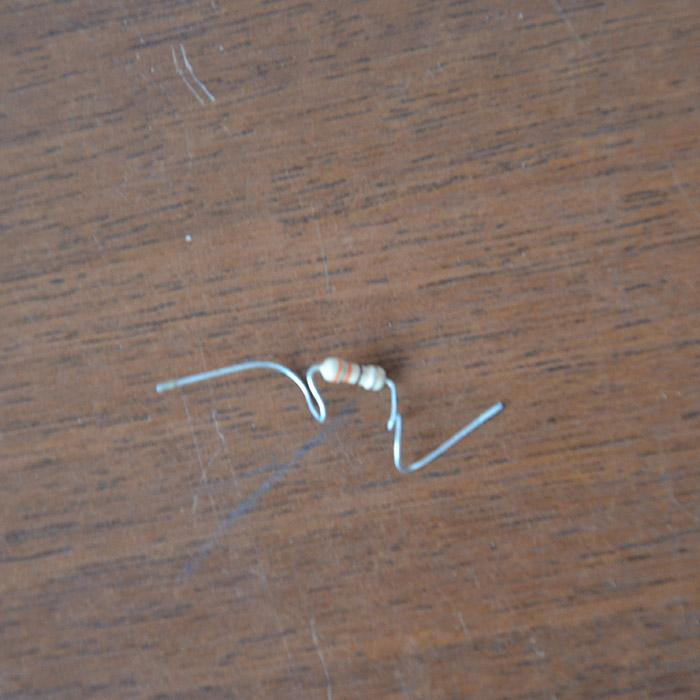resistor: (317, 356, 387, 392)
